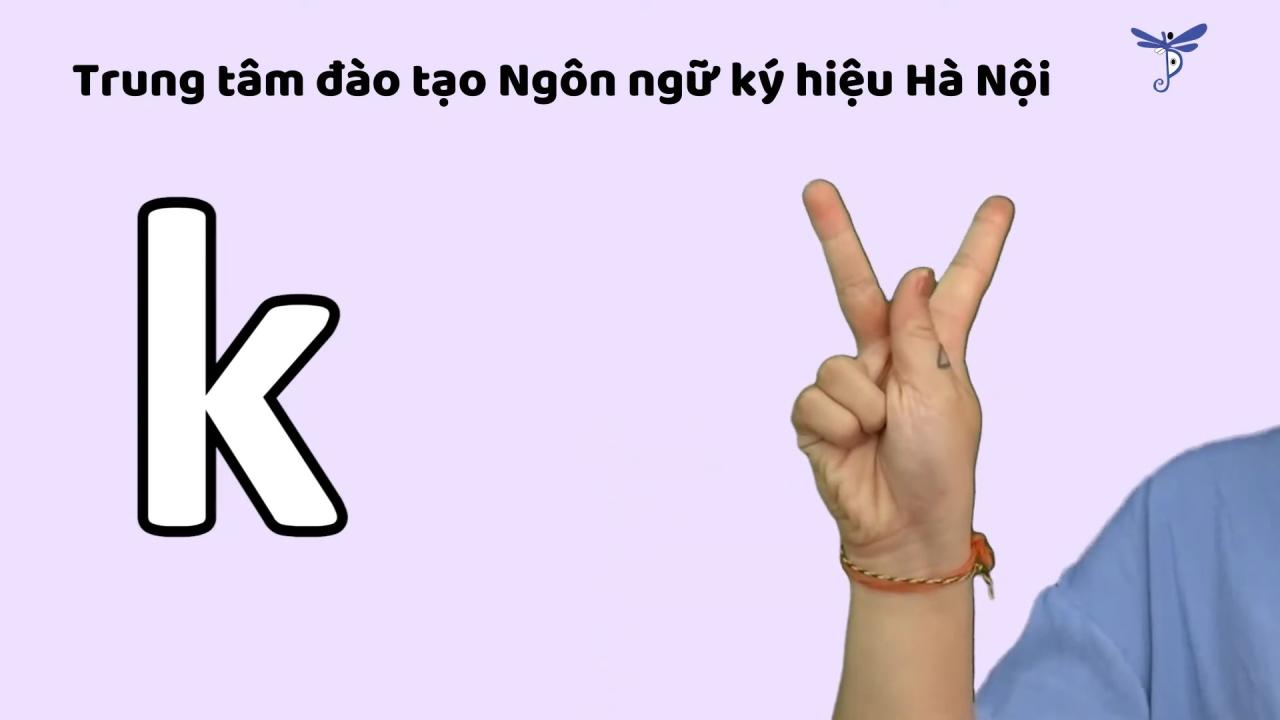K: (769, 164, 1023, 594)
